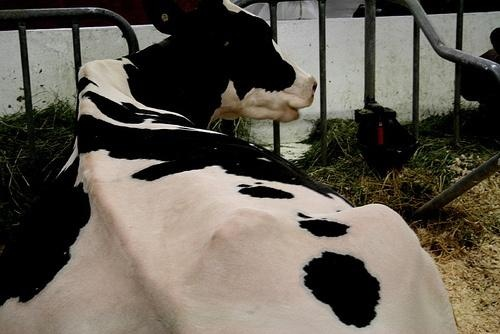cow: (2, 2, 459, 334)
